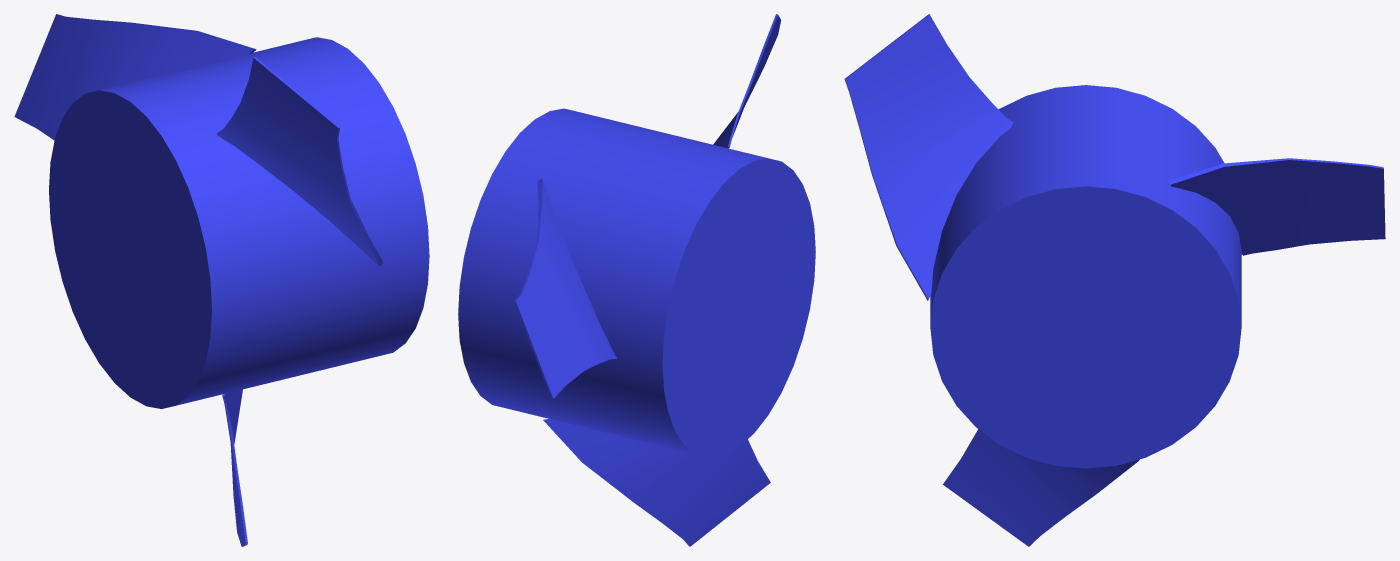
File: t200_prop_ccw.visual.glb
3 renders of one model, left to right at view 1: azimuth 30°, elevation 25°; view 2: azimuth 150°, elevation 25°; view 3: azimuth 270°, elevation 25°, orthographic. The views are drawn at different scales.
Parts seen in each view (by area): view 1: t200_prop_ccw_visual.001; view 2: t200_prop_ccw_visual.001; view 3: t200_prop_ccw_visual.001.
Boxes of the visible parts, <box> form: t200_prop_ccw_visual.001: <box>14,14,429,546</box>; t200_prop_ccw_visual.001: <box>458,14,815,546</box>; t200_prop_ccw_visual.001: <box>844,14,1385,546</box>.
Size of the model in its own units: 0.0309 by 0.073 by 0.0697.
Materials: 1 (1 with a texture image).
